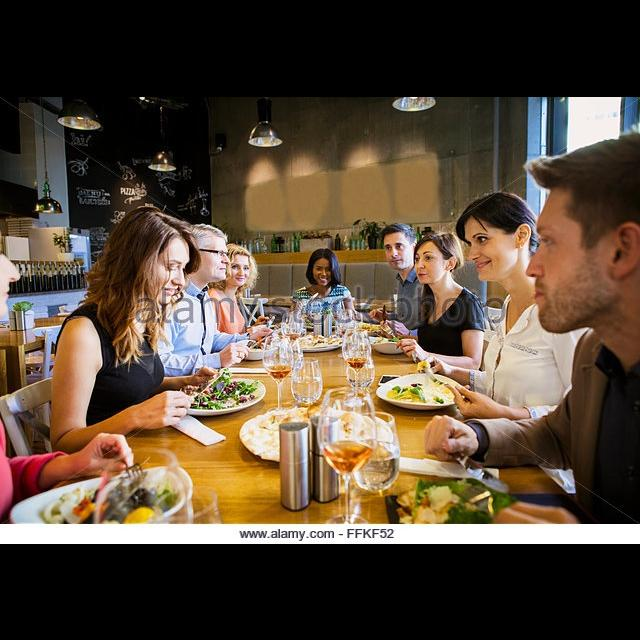head: (116, 205, 192, 305), (462, 190, 538, 284), (178, 223, 232, 281), (414, 232, 458, 284), (384, 225, 416, 269), (308, 249, 339, 287), (310, 248, 338, 286)
person: (328, 228, 488, 460), (332, 219, 440, 425), (284, 243, 368, 439), (0, 96, 2, 98)
